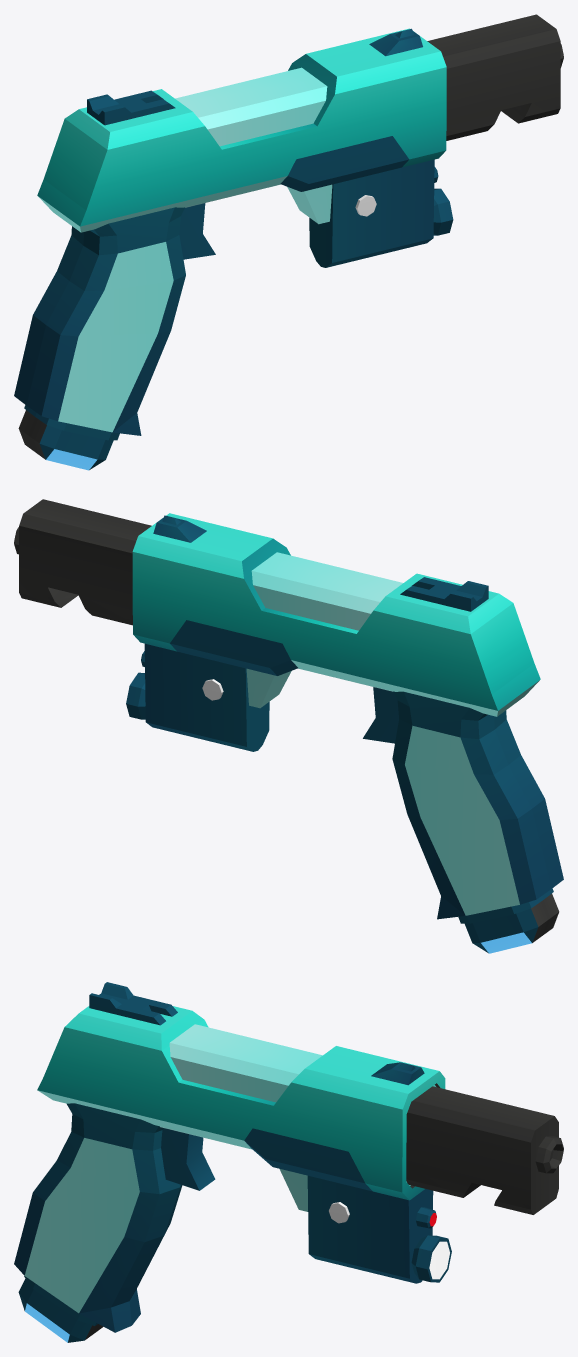
File: Pistol_A_mesh.fbx
The picture shows the model from 3 angles, top to bottom: view 1: azimuth 30°, elevation 25°; view 2: azimuth 150°, elevation 25°; view 3: azimuth 330°, elevation 25°; orthographic projection.
Parts seen in each view (by area): view 1: PistolSlide_mesh, Pistol_A_mesh, Pistol_Silencer_mesh, SmallLaserCombo_mesh, Mag_Pistol_mesh, TriggerC_mesh; view 2: PistolSlide_mesh, Pistol_A_mesh, Pistol_Silencer_mesh, SmallLaserCombo_mesh, Mag_Pistol_mesh, TriggerC_mesh; view 3: PistolSlide_mesh, Pistol_A_mesh, Pistol_Silencer_mesh, SmallLaserCombo_mesh, TriggerC_mesh, Mag_Pistol_mesh.
Part boxes in pixels (left/top/right/bottom): PistolSlide_mesh: left=37, top=28, right=446, bottom=232; Pistol_A_mesh: left=14, top=67, right=327, bottom=440; Pistol_Silencer_mesh: left=427, top=14, right=563, bottom=140; SmallLaserCombo_mesh: left=287, top=159, right=453, bottom=267; Mag_Pistol_mesh: left=18, top=410, right=113, bottom=470; TriggerC_mesh: left=179, top=203, right=215, bottom=259; PistolSlide_mesh: left=132, top=513, right=540, bottom=716; Pistol_A_mesh: left=251, top=552, right=563, bottom=923; Pistol_Silencer_mesh: left=14, top=499, right=151, bottom=625; SmallLaserCombo_mesh: left=126, top=643, right=291, bottom=751; Mag_Pistol_mesh: left=465, top=893, right=559, bottom=953; TriggerC_mesh: left=363, top=687, right=398, bottom=743; PistolSlide_mesh: left=37, top=982, right=445, bottom=1200; Pistol_A_mesh: left=14, top=1024, right=435, bottom=1332; Pistol_Silencer_mesh: left=406, top=1086, right=563, bottom=1214; SmallLaserCombo_mesh: left=279, top=1168, right=451, bottom=1283; TriggerC_mesh: left=161, top=1128, right=215, bottom=1190; Mag_Pistol_mesh: left=18, top=1279, right=103, bottom=1342.
Size of the model in its own units: 25.68 by 16.24 by 3.59.
2 materials, 1 textured.
